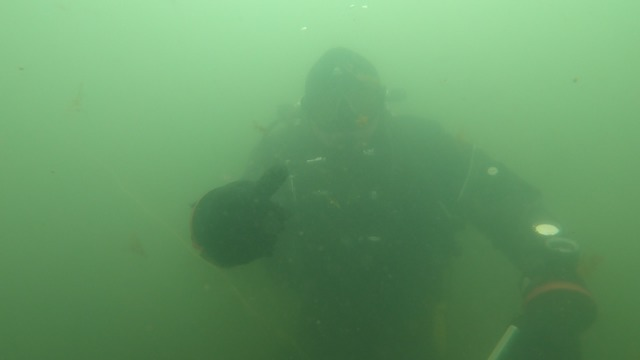Hand: (196, 166, 300, 266), (501, 282, 607, 347)
Head: (300, 41, 390, 164)
